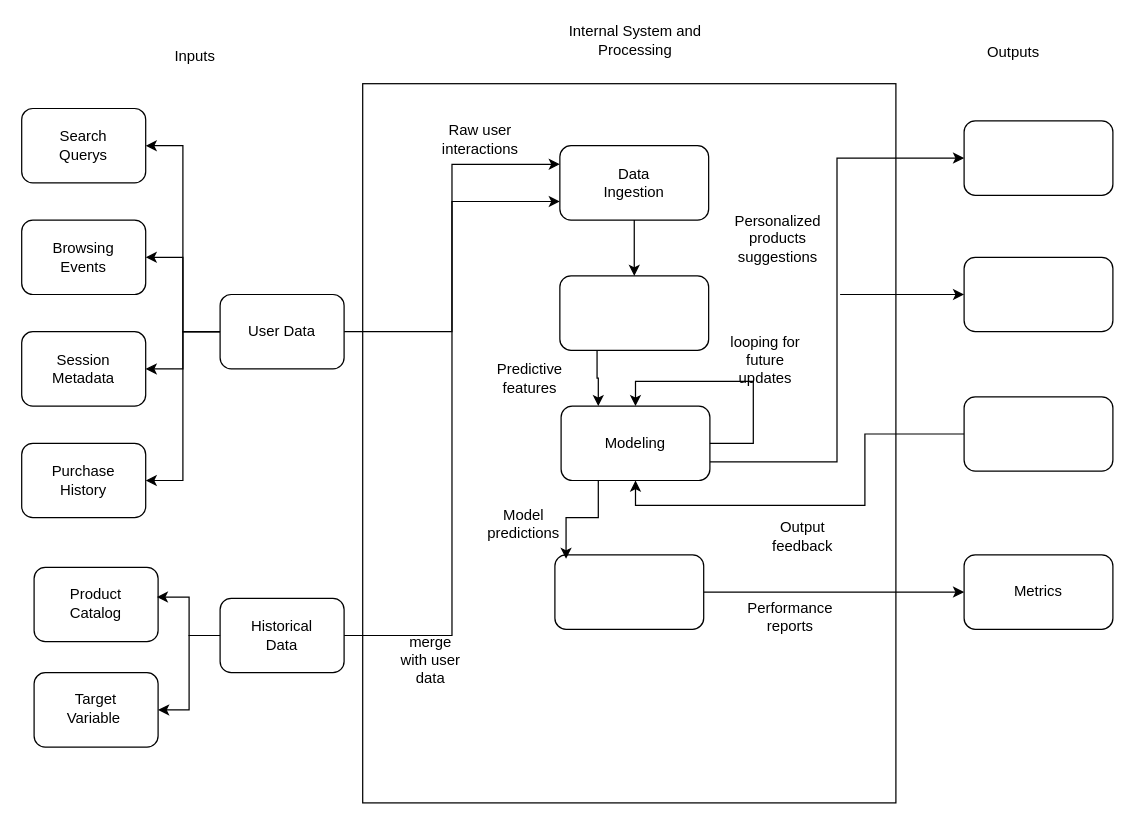
Some shapes in this 1135 by 825 pixel diagram are drawn without their labels. Here are the shapes that lost their labels. From the top down, the box of each, then its label:
(963, 120, 1113, 195): Main Prediction
(559, 275, 709, 350): Feature Engineering
(963, 256, 1113, 332): UI signals
(963, 396, 1113, 471): Prediction Records
(554, 554, 704, 629): Evaluation
